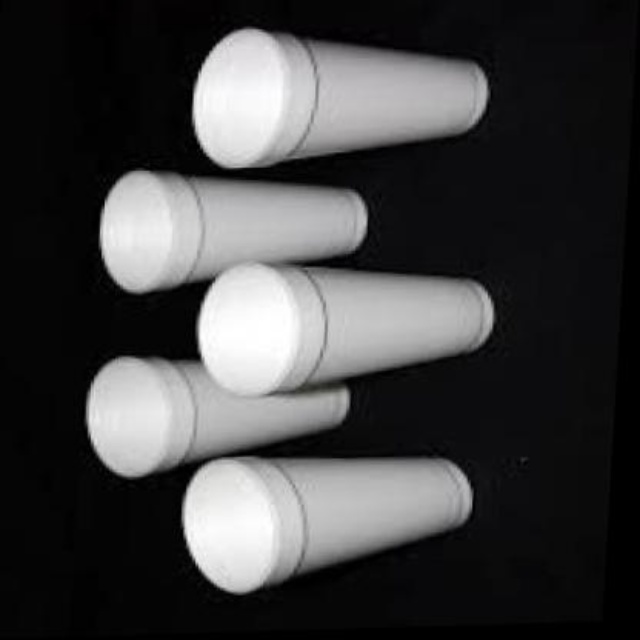trash: (192, 28, 488, 166), (183, 457, 471, 592), (197, 263, 492, 394), (100, 171, 366, 292)
